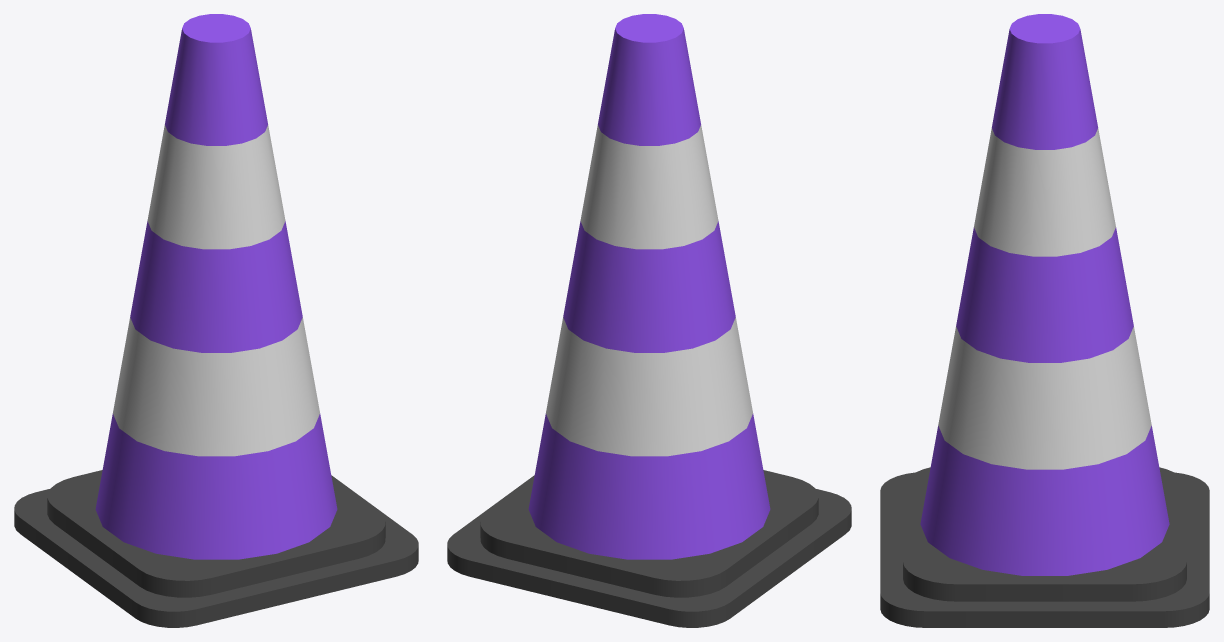
3 renders of one model, left to right at view 1: azimuth 30°, elevation 25°; view 2: azimuth 150°, elevation 25°; view 3: azimuth 270°, elevation 25°, orthographic. The views are drawn at different scales.
Visible parts, largest first — view 1: Cone B; view 2: Cone B; view 3: Cone B.
Boxes of the visible parts, box(x1,y1,x2,y2) form: Cone B: box(14, 14, 418, 627); Cone B: box(447, 14, 851, 627); Cone B: box(880, 14, 1209, 627).
Bounding box in the file's own units: 77.71 × 138 × 77.71.
